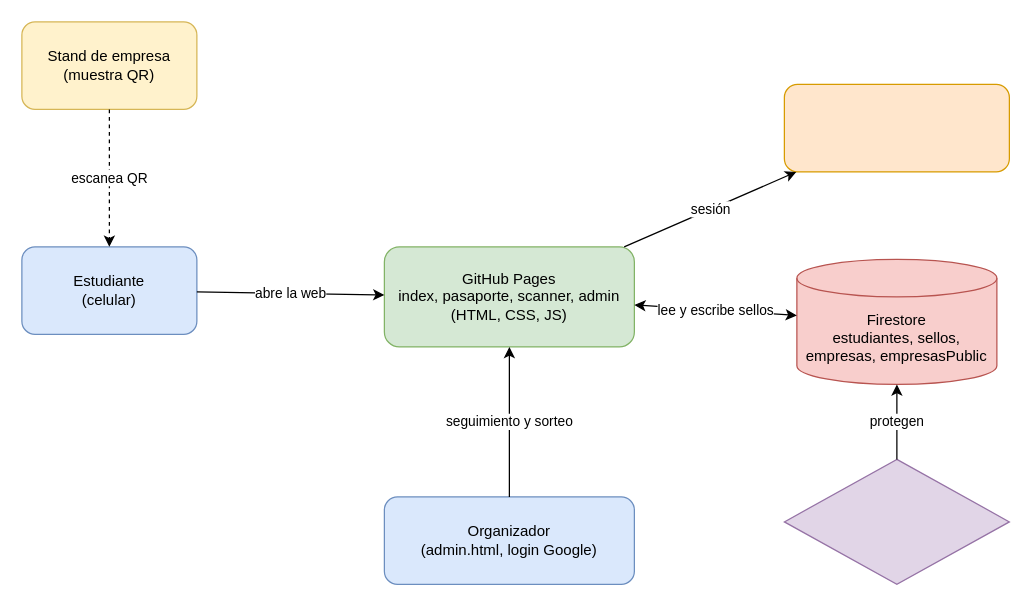
Some shapes in this 1031 by 606 pixel diagram are drawn without their labels. Each missing label, with the box of its shape:
Firebase Auth (anónimo y Google): (783, 83, 1009, 172)
firestore.rules (validan uid y token): (783, 458, 1009, 584)
